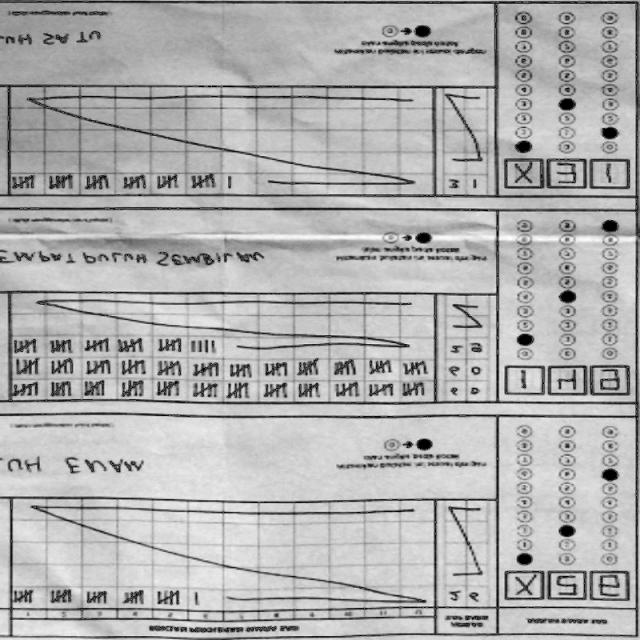Suara: (498, 364, 638, 409), (498, 570, 626, 605), (504, 158, 632, 193)
